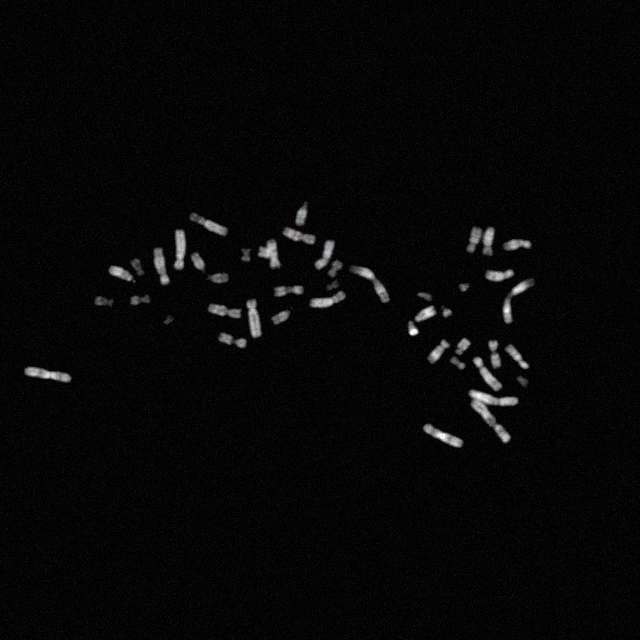chromosome: (472, 401, 511, 444), (502, 278, 536, 324), (349, 266, 388, 302), (472, 357, 502, 391), (422, 424, 462, 448), (190, 212, 228, 236), (468, 390, 518, 406), (310, 290, 346, 308), (246, 298, 262, 338), (26, 367, 70, 381), (154, 248, 170, 286), (315, 240, 335, 270), (283, 226, 315, 244), (506, 345, 528, 369), (428, 340, 449, 364), (174, 229, 186, 269), (218, 332, 248, 348), (208, 304, 242, 318), (108, 265, 134, 281), (466, 227, 482, 253), (486, 268, 512, 282), (268, 239, 280, 269), (414, 306, 436, 322), (503, 238, 531, 250), (489, 340, 501, 368), (274, 286, 304, 296), (484, 228, 494, 256), (207, 272, 230, 284), (295, 202, 307, 225), (130, 258, 144, 276), (191, 253, 205, 271), (272, 310, 290, 324), (456, 338, 470, 356), (328, 260, 342, 276), (132, 294, 150, 306), (450, 356, 466, 369), (258, 246, 274, 258), (95, 297, 114, 307), (408, 320, 418, 336), (241, 247, 251, 261), (418, 292, 432, 302), (327, 281, 339, 291), (443, 306, 452, 318), (164, 316, 174, 326), (460, 283, 470, 293), (518, 376, 528, 386)
